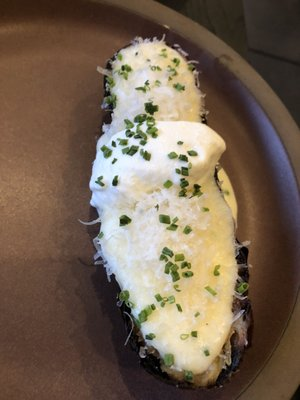sushi: (0, 6, 300, 397)
